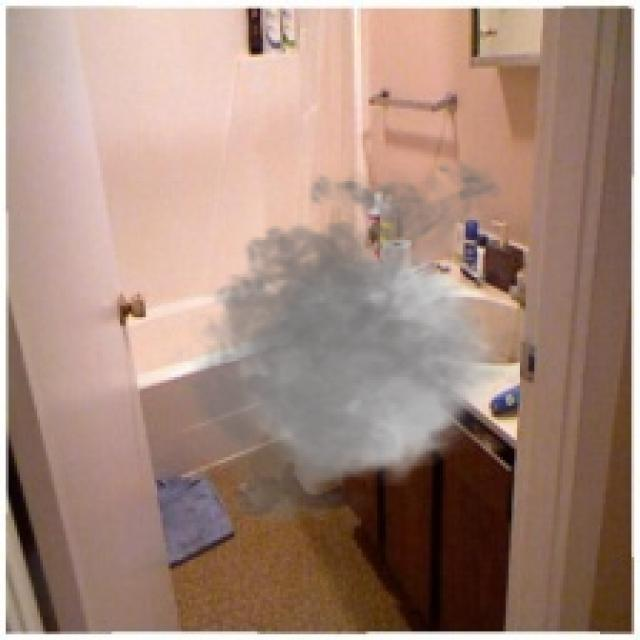Smoke: (160, 148, 569, 540)
